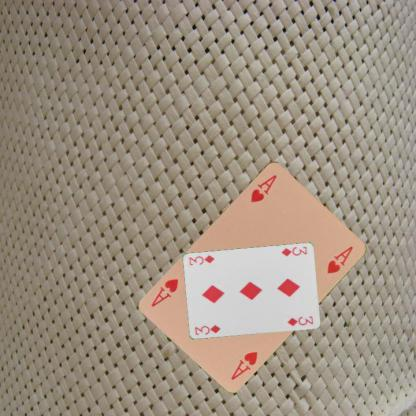3d: (278, 244, 308, 258), (192, 322, 221, 336)
Ah: (228, 348, 258, 382), (248, 172, 278, 204)
